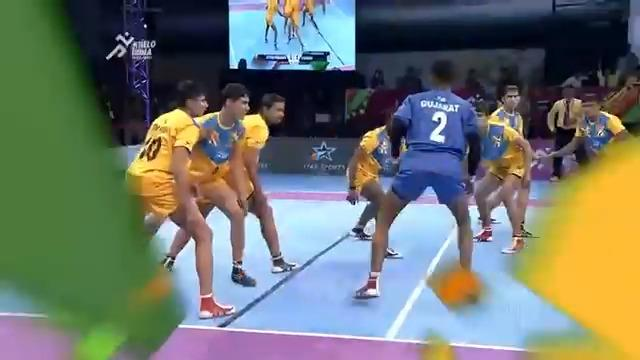Player: (123, 78, 236, 320), (160, 82, 256, 287), (234, 89, 300, 273), (471, 81, 538, 253), (345, 105, 403, 258), (535, 101, 634, 181)
Raider: (352, 57, 483, 303)
